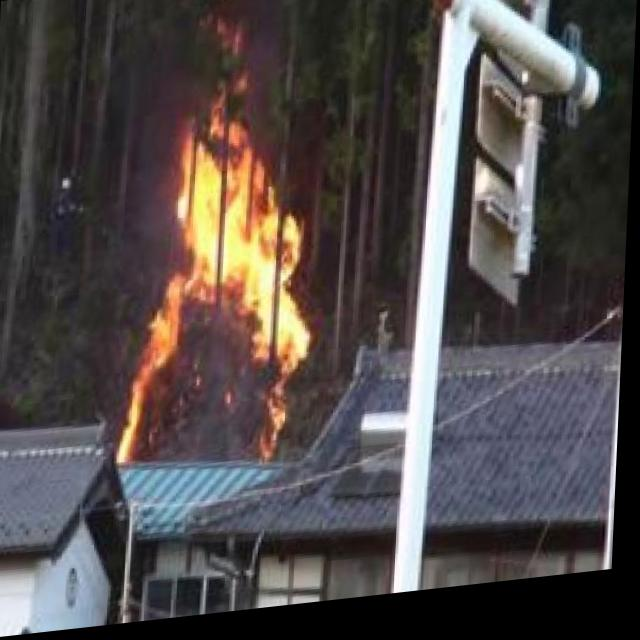Fire: (125, 16, 312, 471)
